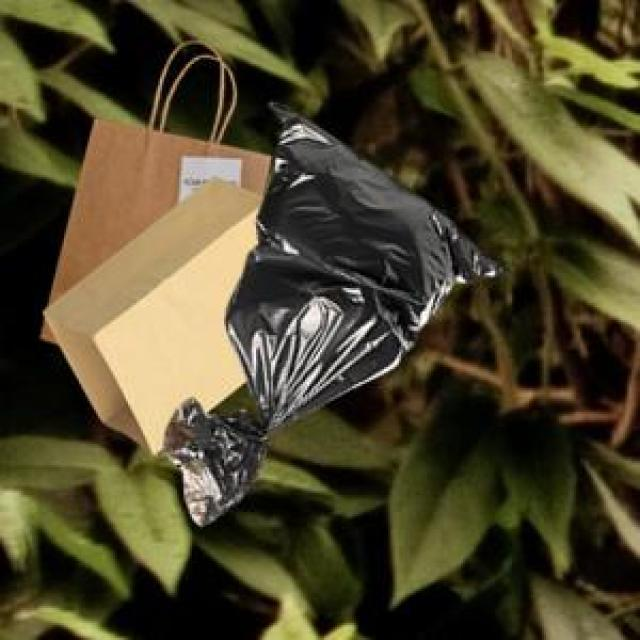miscellaneous trash: (160, 98, 501, 523)
paper: (36, 51, 267, 339), (38, 173, 260, 450)
